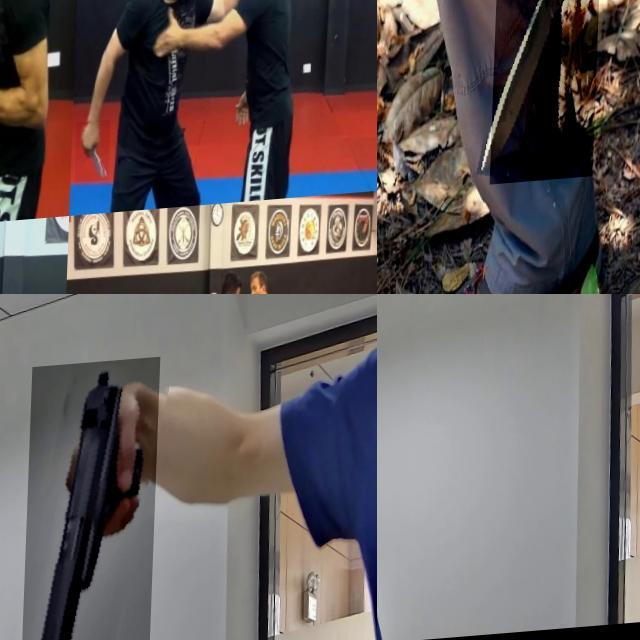-: (493, 0, 605, 187), (0, 20, 22, 143), (76, 126, 112, 188)
gun-knife-thesis - v11 Yolov5 augmented: (25, 363, 163, 640), (377, 308, 416, 464)
